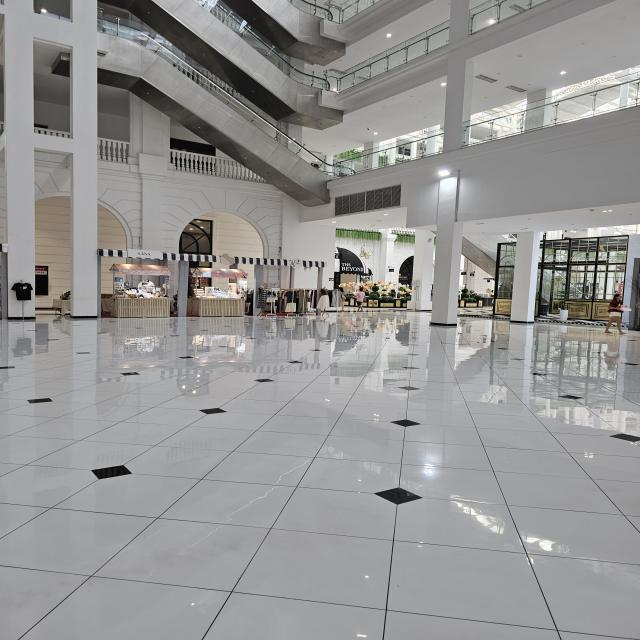footpath: (6, 339, 640, 640)
obstacle: (180, 258, 251, 320), (106, 258, 175, 320), (262, 283, 342, 319)
person: (603, 290, 638, 334)
